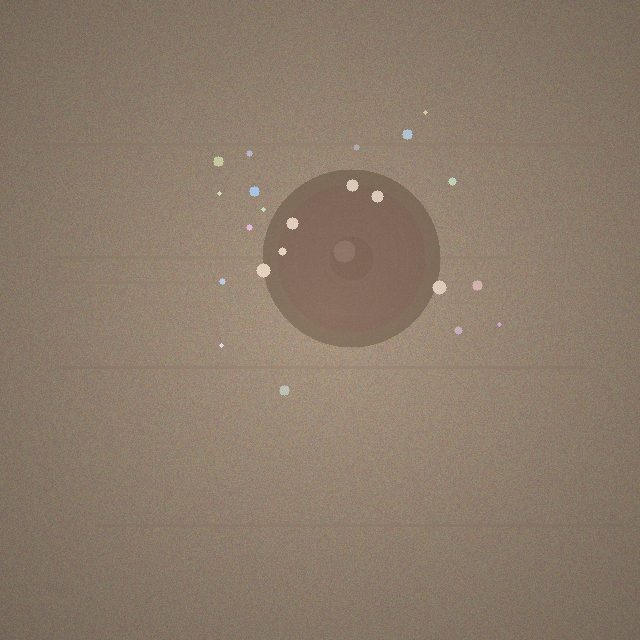overburn: (262, 169, 440, 347)
